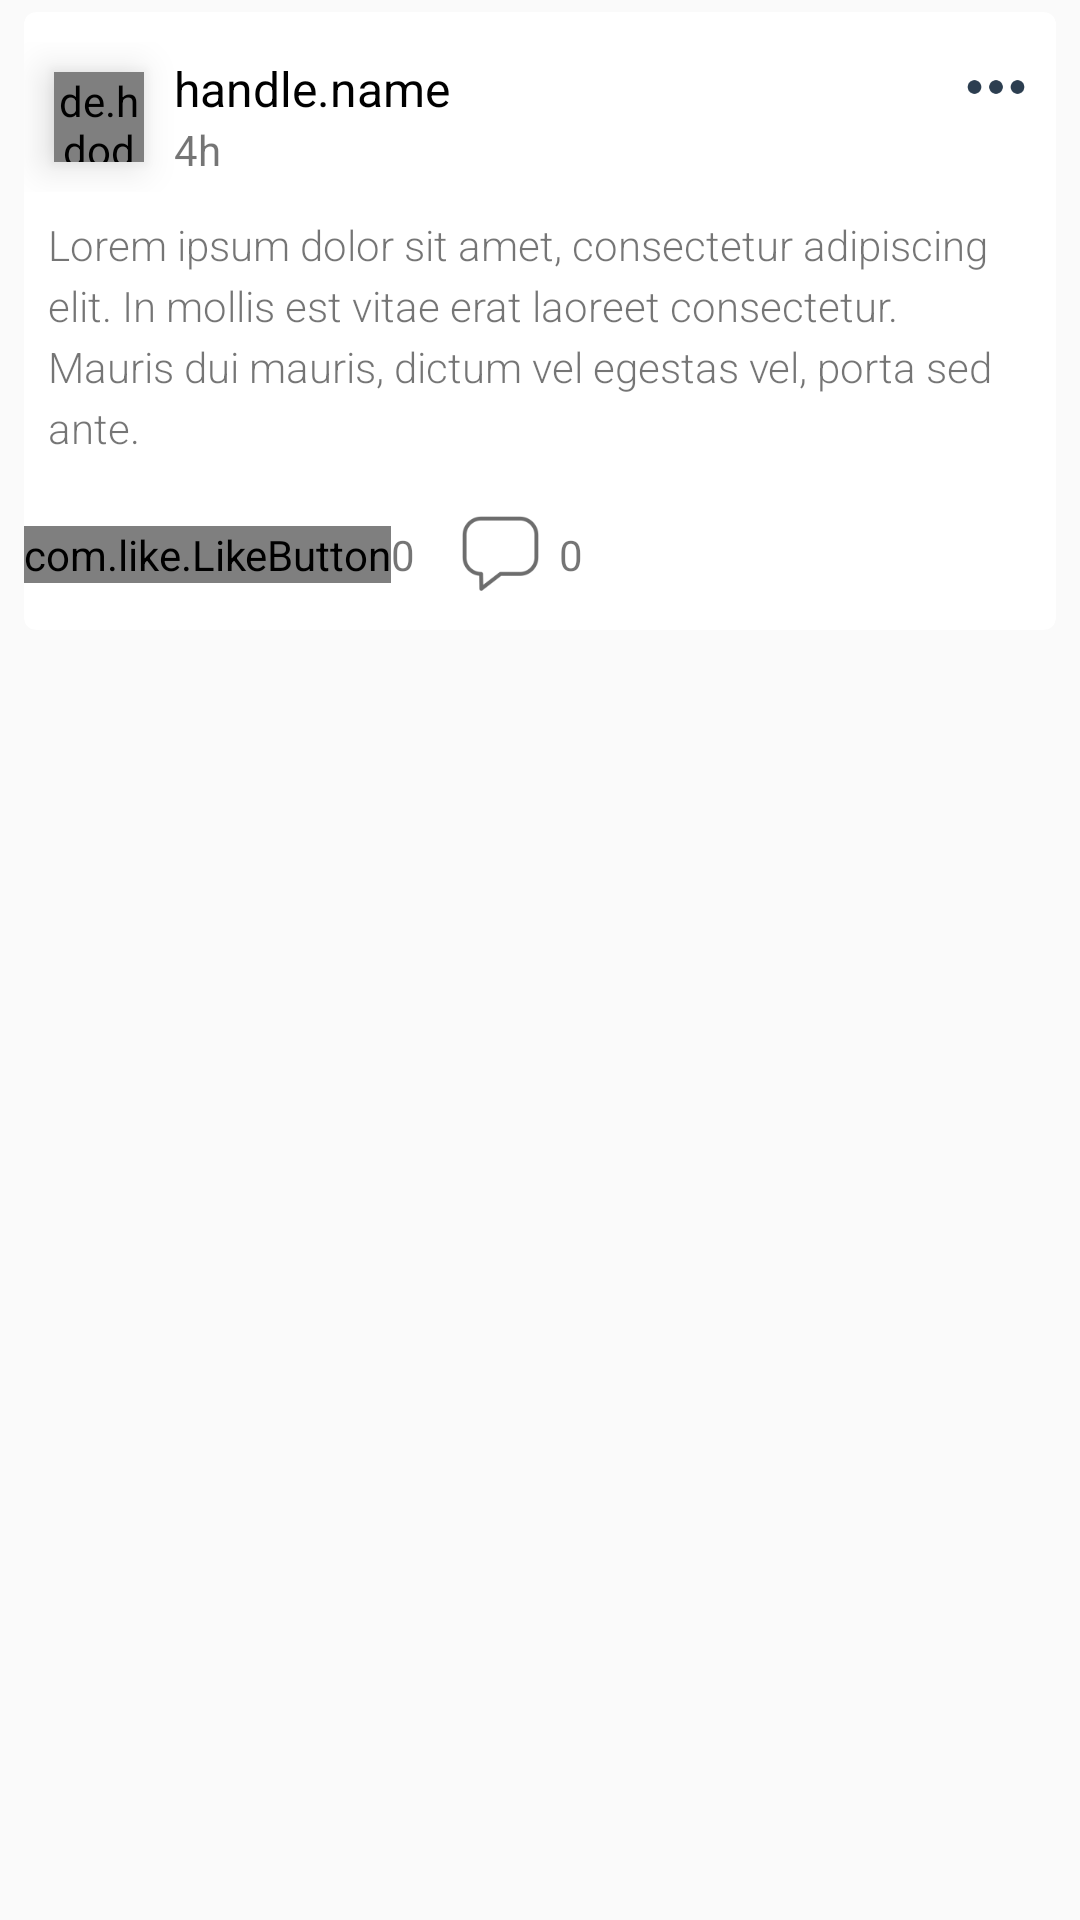

Icon click points for this 1080 × 1920 phone screenshot, format point (x, y):
dot horizontal: point (996, 87)
speech bubble: point (500, 553)
